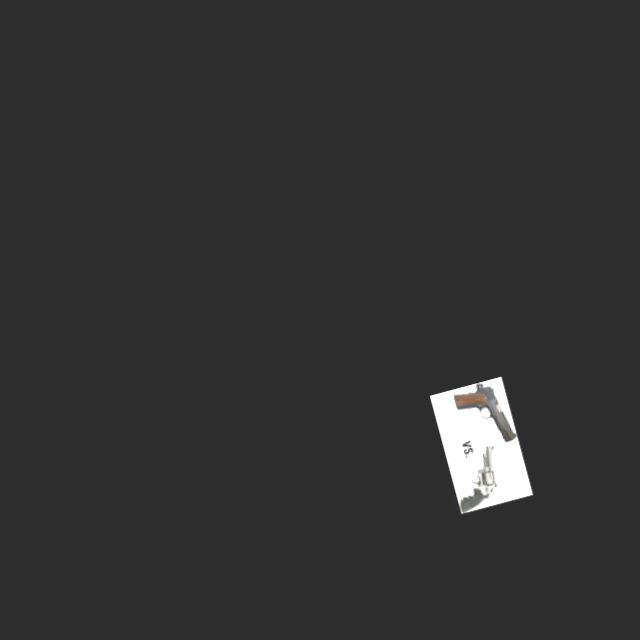handgun: (17, 295, 514, 639)
